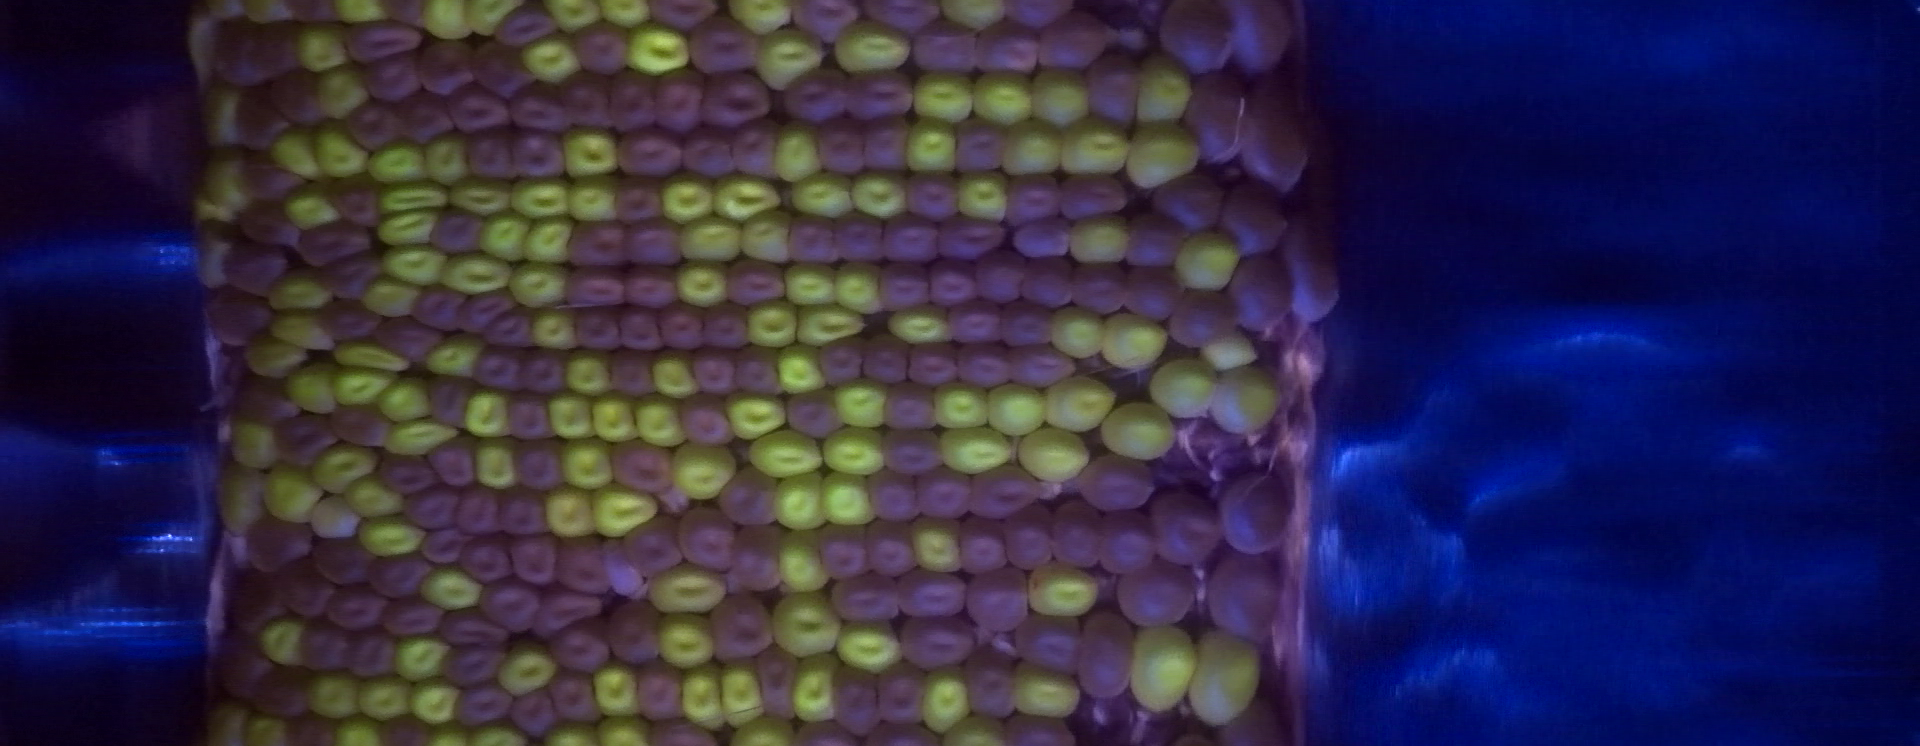fluorescent: (1190, 628, 1262, 726), (1127, 622, 1195, 717), (1124, 122, 1202, 194), (1209, 363, 1283, 436), (753, 27, 827, 96), (768, 597, 842, 661), (1135, 53, 1196, 129), (1025, 561, 1104, 619), (1102, 401, 1178, 461), (1018, 425, 1093, 485), (1044, 371, 1122, 430), (1173, 230, 1245, 293), (831, 17, 913, 71), (936, 425, 1022, 475), (1060, 116, 1130, 178), (1147, 359, 1220, 418), (1098, 312, 1171, 371), (1010, 664, 1084, 722), (971, 69, 1035, 134), (913, 66, 977, 127), (267, 122, 328, 186), (775, 527, 835, 592), (649, 566, 732, 612), (623, 20, 692, 76), (710, 170, 785, 222), (833, 619, 904, 671), (1065, 208, 1131, 265), (593, 481, 660, 537), (986, 379, 1046, 439), (311, 122, 372, 181), (1002, 120, 1063, 179), (878, 301, 955, 348), (440, 250, 516, 296), (748, 431, 824, 478), (1032, 66, 1091, 126), (263, 465, 322, 526), (495, 646, 558, 701), (672, 446, 737, 500), (558, 127, 621, 183), (920, 668, 972, 733), (375, 416, 457, 458), (520, 34, 587, 86), (218, 465, 266, 537), (774, 470, 831, 529), (789, 170, 856, 220), (722, 390, 790, 440), (655, 614, 715, 670), (561, 175, 627, 225), (911, 518, 969, 576), (200, 151, 253, 212), (313, 441, 377, 492), (796, 301, 868, 347), (678, 216, 743, 266), (740, 206, 795, 265), (589, 661, 643, 722), (931, 379, 992, 431), (793, 653, 840, 722), (771, 121, 820, 186), (955, 168, 1011, 224), (544, 484, 601, 539), (313, 64, 372, 118), (850, 167, 910, 219), (647, 349, 708, 401), (508, 174, 571, 224), (268, 269, 339, 314), (904, 118, 959, 174), (822, 472, 879, 526), (1051, 304, 1109, 356), (824, 425, 884, 477), (364, 136, 430, 183), (358, 517, 433, 557), (302, 668, 362, 718), (382, 246, 452, 289), (662, 173, 719, 225), (249, 333, 312, 380), (506, 266, 571, 311), (781, 258, 842, 306), (722, 663, 767, 729), (480, 211, 534, 265), (287, 363, 340, 416), (744, 299, 800, 352), (377, 375, 433, 426), (332, 337, 413, 372), (673, 261, 733, 309), (447, 176, 516, 218), (465, 386, 516, 442), (358, 673, 415, 722), (332, 363, 396, 407), (394, 637, 453, 685), (266, 314, 339, 352), (834, 379, 888, 430), (562, 437, 613, 491), (587, 388, 637, 443), (425, 129, 471, 187), (280, 187, 344, 230), (296, 23, 348, 76), (228, 419, 276, 475), (408, 674, 460, 724), (684, 668, 725, 733), (377, 180, 451, 216), (836, 260, 882, 317), (419, 1, 478, 45), (375, 209, 441, 249), (636, 397, 687, 447), (1201, 330, 1261, 372), (260, 616, 307, 669), (340, 477, 407, 514), (204, 83, 244, 147), (426, 334, 487, 375), (422, 570, 484, 610), (527, 216, 576, 266), (549, 394, 599, 443), (527, 309, 580, 353), (311, 492, 365, 537), (564, 349, 613, 397), (775, 344, 822, 394), (729, 1, 790, 38), (942, 713, 1009, 746), (940, 1, 1005, 36), (204, 698, 249, 746), (475, 440, 518, 489), (725, 715, 793, 746), (542, 1, 601, 37), (467, 1, 517, 40), (594, 717, 650, 746), (242, 709, 287, 746), (471, 719, 528, 746), (598, 1, 650, 29), (331, 717, 378, 746), (539, 722, 594, 746), (332, 1, 389, 24), (193, 195, 236, 225), (242, 1, 294, 26), (426, 720, 471, 746), (204, 1, 242, 24)
nonfluorescent: (1245, 75, 1300, 197), (1210, 559, 1276, 644), (1221, 475, 1292, 554), (1160, 2, 1232, 73), (1187, 69, 1242, 162), (1116, 563, 1198, 626), (1277, 228, 1333, 316), (1229, 252, 1292, 328), (1079, 611, 1131, 699), (1073, 456, 1155, 511), (1015, 615, 1082, 679), (1157, 497, 1221, 563), (969, 461, 1036, 523), (1149, 176, 1226, 229), (1218, 190, 1282, 254), (229, 568, 285, 639), (731, 522, 786, 593), (688, 20, 760, 73), (844, 69, 913, 122), (909, 21, 976, 76), (965, 573, 1032, 628), (1231, 2, 1291, 64), (899, 617, 970, 669), (471, 40, 538, 96), (1171, 292, 1240, 343), (238, 371, 300, 428), (236, 88, 291, 152), (211, 17, 262, 85), (233, 196, 293, 254), (700, 72, 769, 122), (1038, 13, 1101, 69), (207, 292, 272, 344), (242, 518, 309, 570), (1051, 500, 1102, 566), (298, 220, 369, 268), (834, 664, 879, 739), (711, 601, 769, 660), (272, 413, 337, 464), (220, 240, 287, 290), (530, 594, 602, 639), (313, 537, 380, 586), (962, 657, 1018, 714), (955, 111, 1004, 175), (362, 50, 418, 107), (678, 392, 735, 447), (556, 538, 609, 597), (340, 100, 400, 152), (786, 69, 846, 120), (830, 577, 900, 621), (509, 82, 571, 132), (1089, 58, 1139, 119), (1221, 698, 1284, 746), (624, 517, 677, 575), (344, 18, 421, 58), (900, 571, 970, 614), (322, 180, 384, 228), (572, 22, 628, 75), (622, 216, 678, 268), (326, 586, 389, 632), (718, 470, 776, 521), (682, 510, 735, 565), (613, 440, 670, 491), (980, 24, 1038, 73), (758, 650, 798, 722), (367, 552, 433, 595), (268, 73, 324, 124), (1102, 511, 1146, 575), (610, 601, 658, 660), (480, 582, 539, 630), (564, 218, 624, 265), (416, 47, 478, 92), (1071, 260, 1123, 314), (1125, 216, 1180, 266), (651, 72, 700, 129), (333, 401, 389, 450), (240, 152, 302, 196), (726, 258, 789, 303), (611, 70, 656, 130), (1127, 267, 1178, 320), (958, 517, 1007, 572), (453, 85, 509, 132), (902, 171, 960, 218), (400, 483, 458, 529), (1000, 175, 1059, 220), (440, 643, 498, 688), (789, 2, 858, 40), (813, 122, 864, 174), (550, 673, 600, 725), (882, 382, 936, 431), (864, 472, 920, 519), (253, 670, 309, 718), (1056, 179, 1127, 216), (879, 661, 921, 724), (564, 267, 623, 311), (639, 661, 683, 720), (287, 563, 333, 619), (375, 318, 440, 358), (431, 203, 481, 254), (877, 263, 927, 314), (816, 523, 866, 573), (397, 92, 451, 138), (884, 216, 938, 262), (922, 467, 969, 521), (1008, 506, 1051, 563), (861, 332, 910, 382), (786, 386, 836, 435), (299, 620, 350, 668), (681, 130, 733, 176), (885, 428, 938, 474), (509, 530, 556, 583), (940, 217, 1000, 257), (617, 134, 681, 171), (347, 633, 396, 682), (225, 649, 274, 698), (514, 439, 564, 486), (738, 127, 782, 181), (863, 2, 940, 33), (316, 256, 380, 293), (1011, 345, 1073, 383), (463, 132, 516, 176), (321, 298, 380, 337), (871, 516, 910, 575), (462, 537, 508, 586), (509, 134, 561, 178), (863, 119, 907, 170), (489, 7, 552, 43), (551, 632, 612, 669), (258, 20, 299, 75), (451, 688, 513, 724), (1007, 714, 1079, 745), (789, 212, 831, 263), (471, 345, 524, 387), (376, 452, 433, 490), (427, 439, 474, 485), (836, 211, 880, 260), (907, 341, 956, 385), (280, 709, 339, 746), (429, 376, 471, 426), (441, 612, 506, 646), (647, 1, 722, 29), (1000, 304, 1054, 343), (735, 345, 779, 393), (817, 341, 864, 385), (959, 342, 1007, 386), (502, 488, 545, 537), (1014, 220, 1070, 257), (509, 394, 555, 440), (947, 307, 1004, 343), (577, 310, 626, 352), (615, 180, 665, 220), (1026, 258, 1071, 303), (513, 693, 555, 741), (416, 285, 460, 330), (793, 717, 860, 746), (662, 307, 707, 350), (458, 488, 500, 533), (456, 293, 512, 326), (564, 78, 602, 127), (618, 306, 659, 352), (380, 710, 431, 746), (609, 348, 649, 392), (977, 257, 1022, 296), (384, 608, 444, 637), (1002, 1, 1071, 26), (694, 349, 730, 397), (651, 718, 714, 745), (520, 350, 560, 393), (418, 528, 471, 559), (627, 269, 675, 304), (700, 312, 752, 344), (931, 261, 970, 303), (871, 724, 939, 746), (288, 1, 348, 26), (487, 318, 540, 345), (383, 1, 427, 28)
